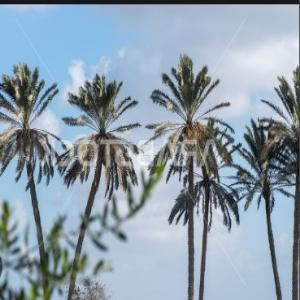palm tree: (144, 52, 237, 299), (56, 72, 142, 299), (0, 60, 66, 299), (226, 115, 296, 299), (258, 63, 299, 299)
